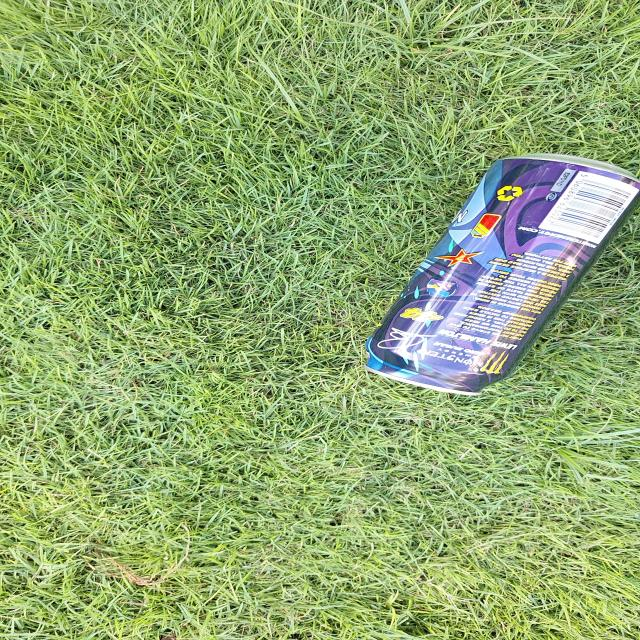Monster LH44: (362, 154, 640, 392)
